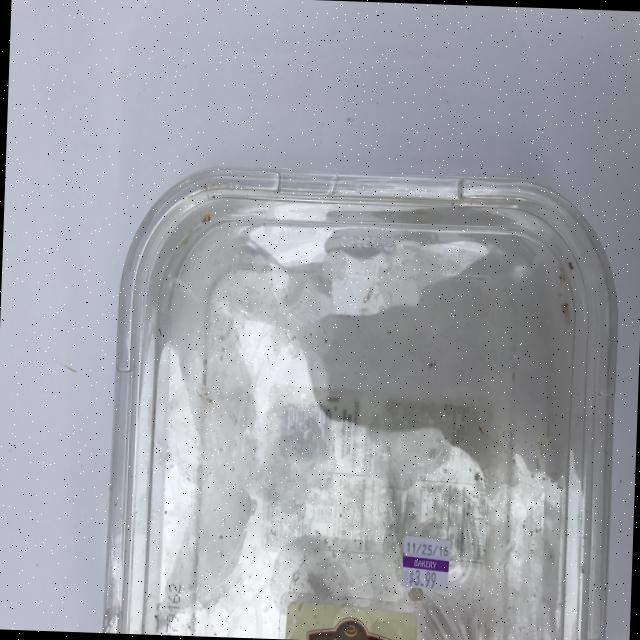plastic: (103, 163, 622, 640)
